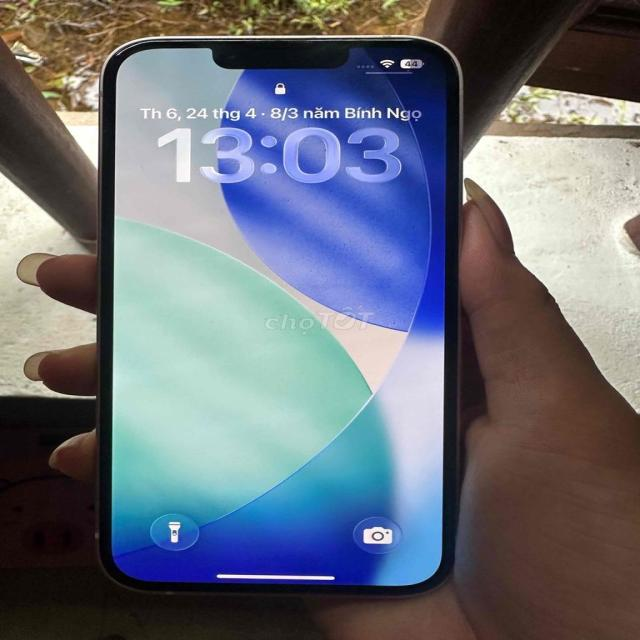gen_12_13: (90, 33, 457, 590)
